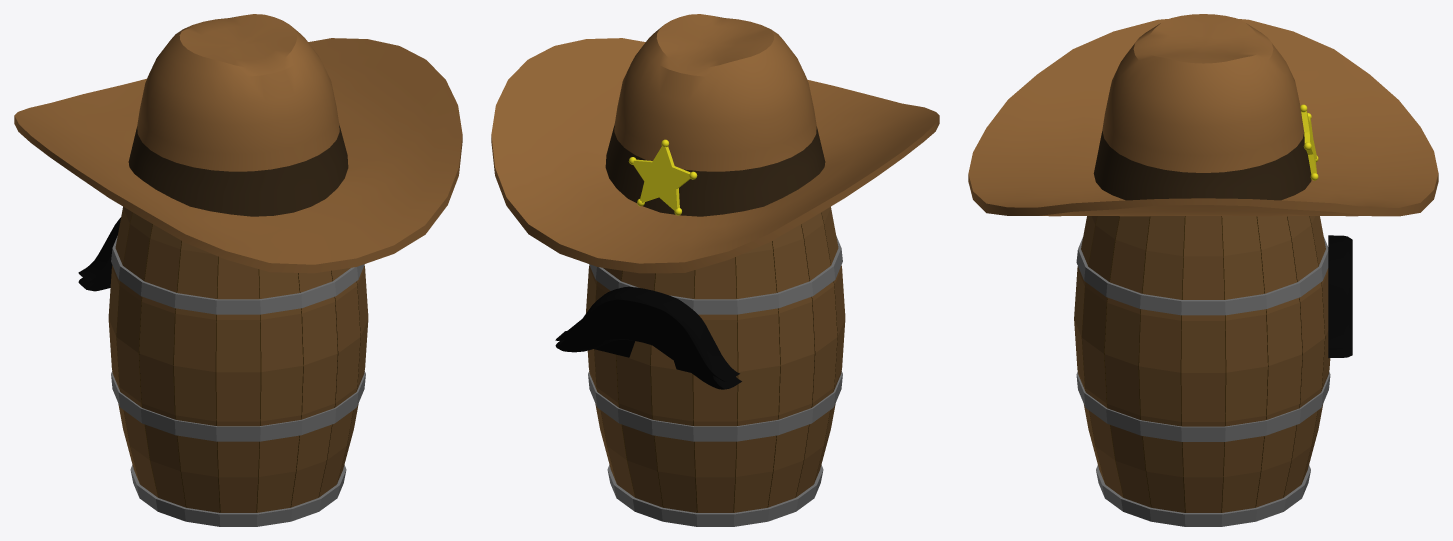
Rendered from barrel sheriff.fbx.
The picture shows the model from 3 angles, left to right: view 1: azimuth 30°, elevation 25°; view 2: azimuth 150°, elevation 25°; view 3: azimuth 270°, elevation 25°; orthographic projection.
Parts seen in each view (by area): view 1: barrel sheriff; view 2: barrel sheriff; view 3: barrel sheriff.
Part boxes in pixels (<box>): barrel sheriff: <box>14,14,462,526</box>; barrel sheriff: <box>491,14,939,526</box>; barrel sheriff: <box>968,14,1438,526</box>.
Size of the model in its own units: 674 by 766 by 732.
